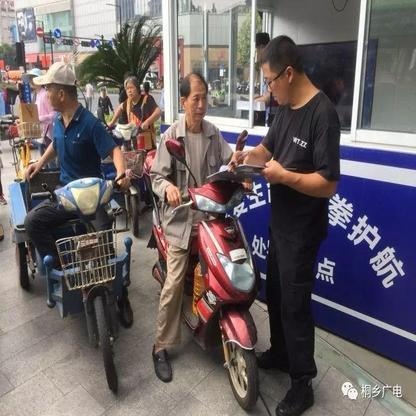target: (141, 70, 270, 410), (9, 62, 135, 395)
